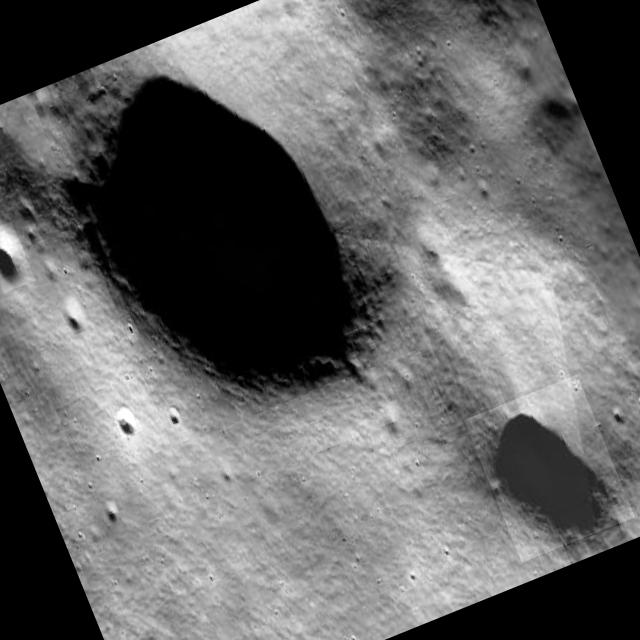crater: (34, 2, 427, 448), (463, 373, 634, 562), (0, 220, 35, 292), (112, 404, 142, 438)
